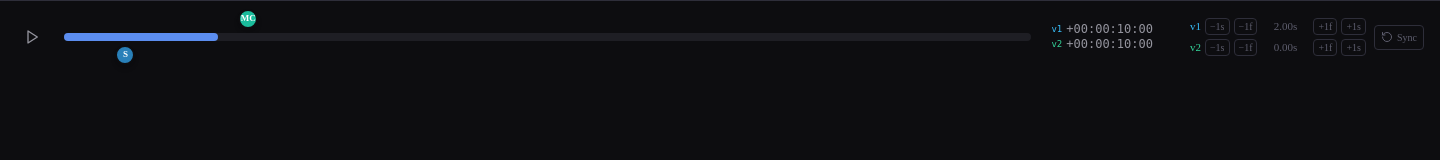
Scenario: elapsed / remaining timecode › both stacked lines flip together — the toggle picks the mode, not a side
This screenshot has width=1440, height=160.
Click the button with test id "timecode-readout". click: x=1102, y=37
box: [1047,20,1157,54]
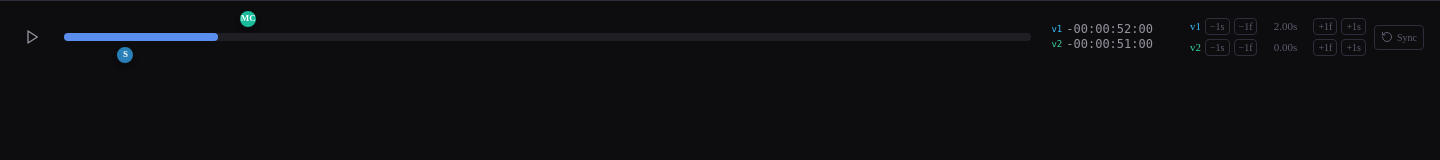
Expected: the element with test id "timecode-a" shows "-00:00:52:00", [1051,22,1153,37]
Expected: the element with test id "timecode-b" shows "-00:00:51:00", [1051,37,1153,52]
